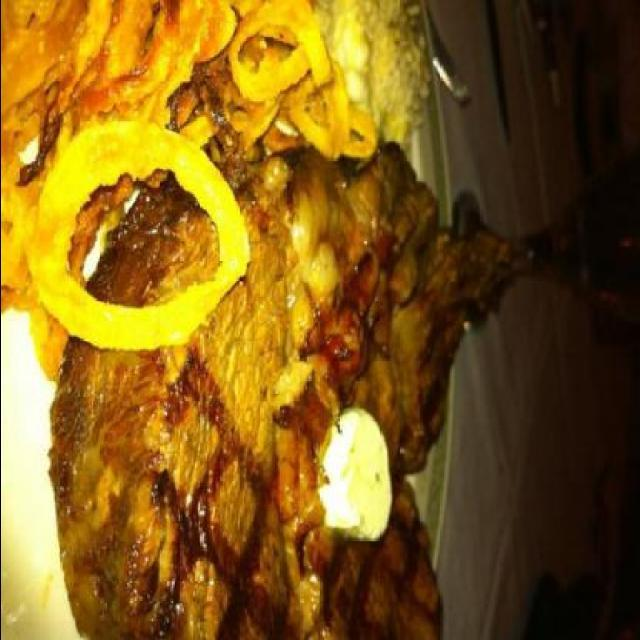Steak: (72, 167, 516, 638)
